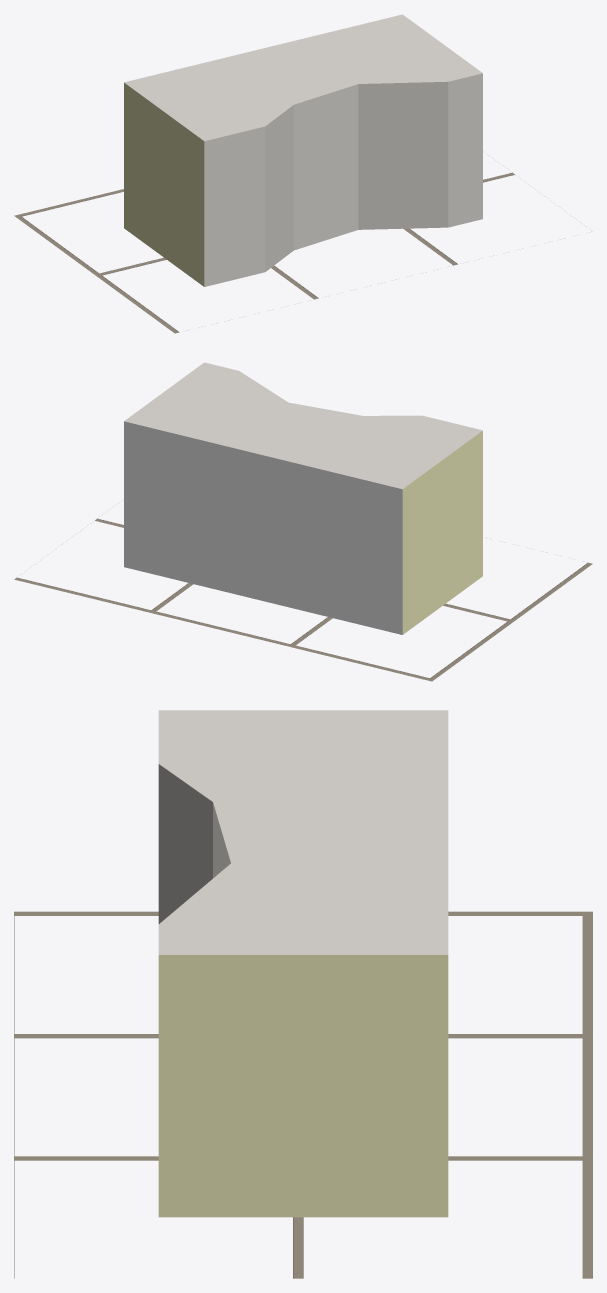
The model's file is Cracked_Straight_2x2_3_Mid.glb.
The picture shows the model from 3 angles, top to bottom: view 1: azimuth 30°, elevation 25°; view 2: azimuth 150°, elevation 25°; view 3: azimuth 270°, elevation 25°; orthographic projection. The views are drawn at different scales.
Parts seen in each view (by area): view 1: Cracked_Straight_2x2_3_Mid, Floor; view 2: Cracked_Straight_2x2_3_Mid, Floor; view 3: Cracked_Straight_2x2_3_Mid, Floor.
Boxes of the visible parts, left/top/right/bottom form: Cracked_Straight_2x2_3_Mid: left=124, top=14, right=482, bottom=286; Floor: left=14, top=172, right=514, bottom=333; Cracked_Straight_2x2_3_Mid: left=124, top=362, right=482, bottom=634; Floor: left=14, top=518, right=592, bottom=681; Cracked_Straight_2x2_3_Mid: left=158, top=710, right=448, bottom=1217; Floor: left=14, top=911, right=592, bottom=1278.
Size of the model in its own units: 300 by 100 by 200.
4 materials, 1 textured.
